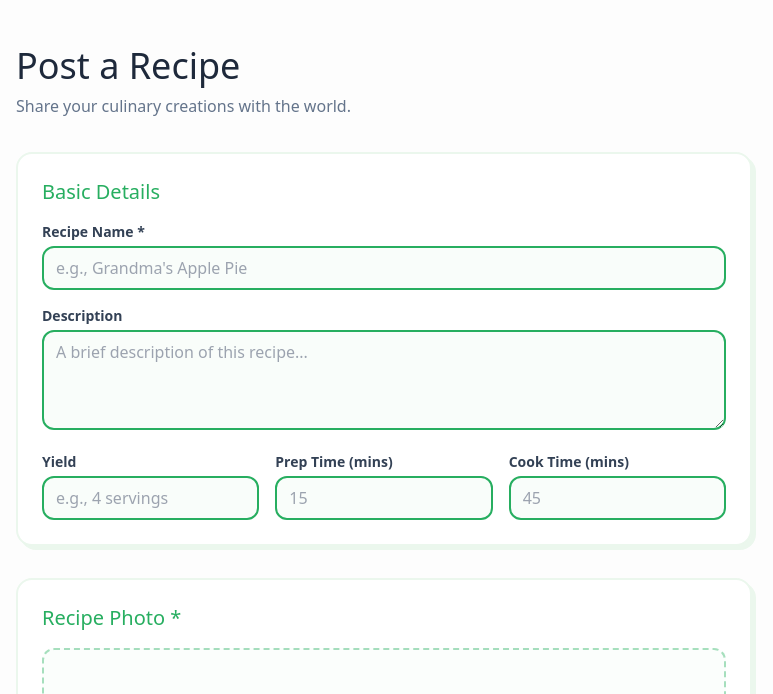
Scenario: CreateRecipePage Component › shows error if image is missing
This screenshot has width=773, height=694.
// Fill name but omit image
Type "Test Recipe" into the field with placeholder "e.g., Grandma's Apple Pie" at [384, 268], box [42,246,726,290]
(page scrolled)
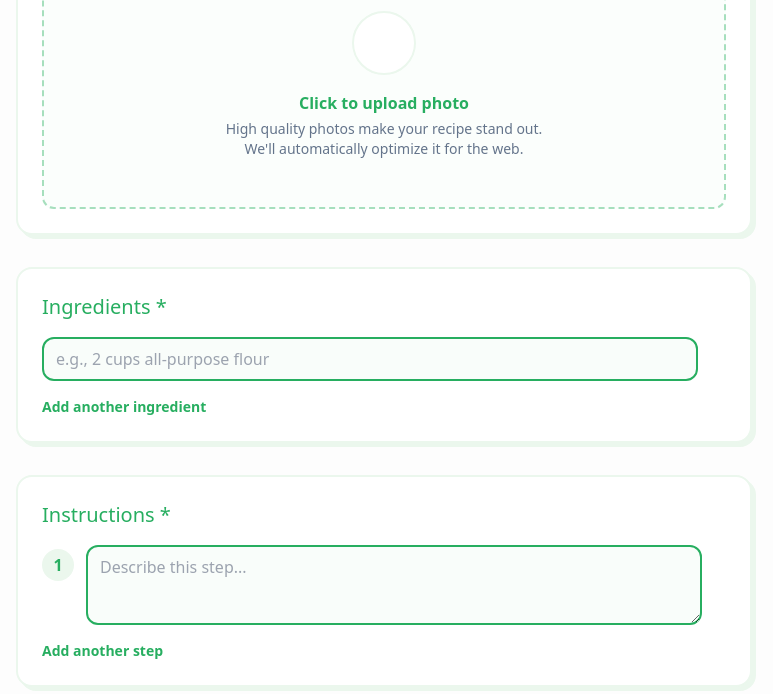
Type "Ingredient 1" into the field with placeholder "e.g., 2 cups all-purpose flour" at [370, 359], box [42,337,698,381]
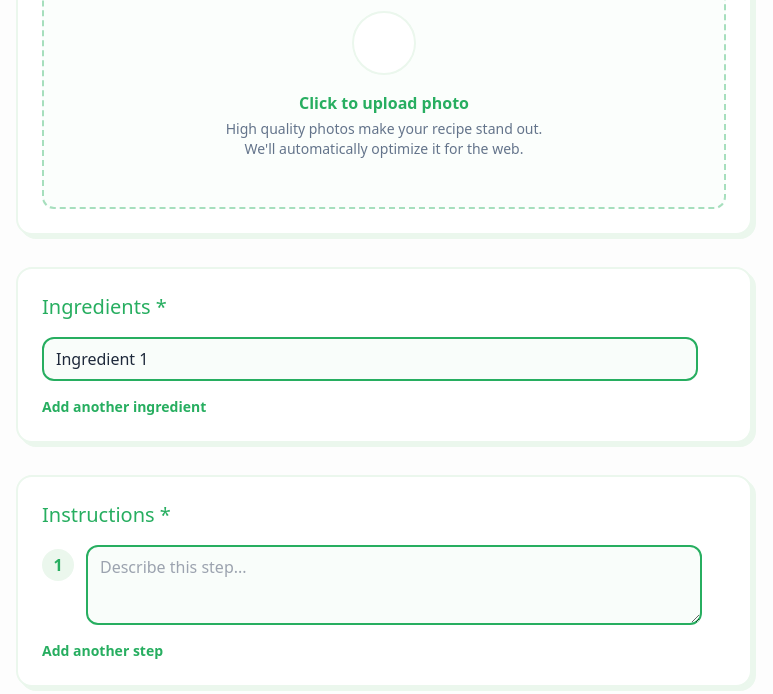
Type "Step 1" into the text box with placeholder "Describe this step..." at [394, 585], box [86,545,702,625]
(page scrolled)
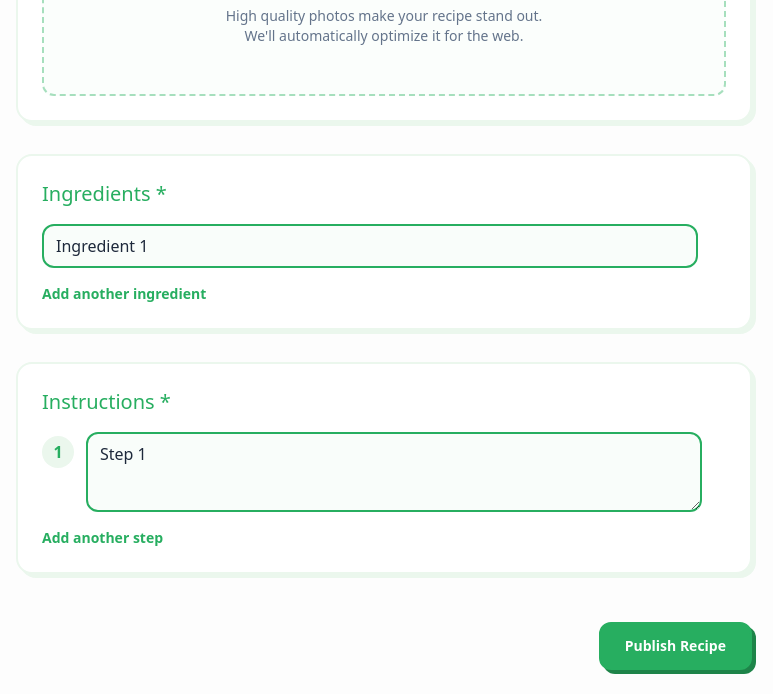
Click the button "Publish Recipe" at [675, 646], box [599,622,752,670]
(page scrolled)
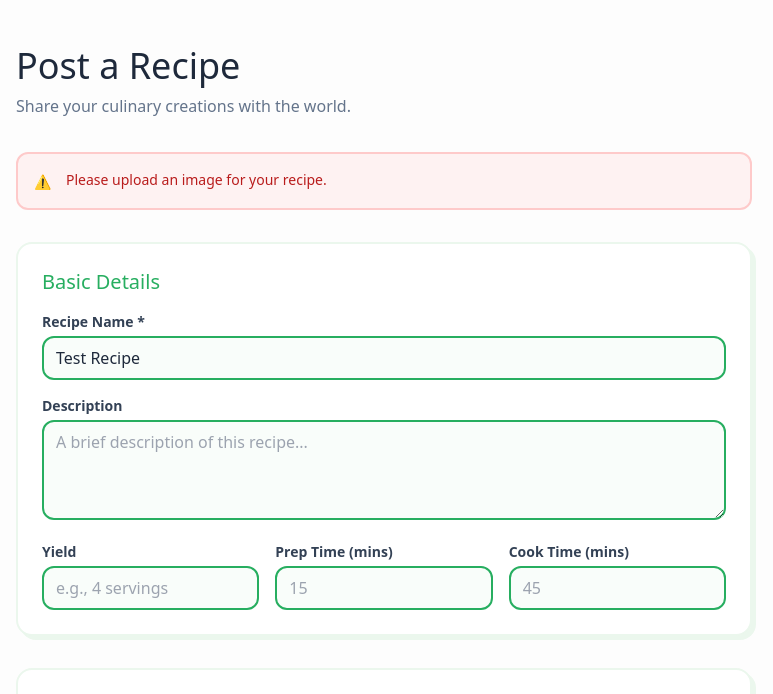
Result: the text "Please upload an image for your recipe." is shown at [66,170,327,190]
